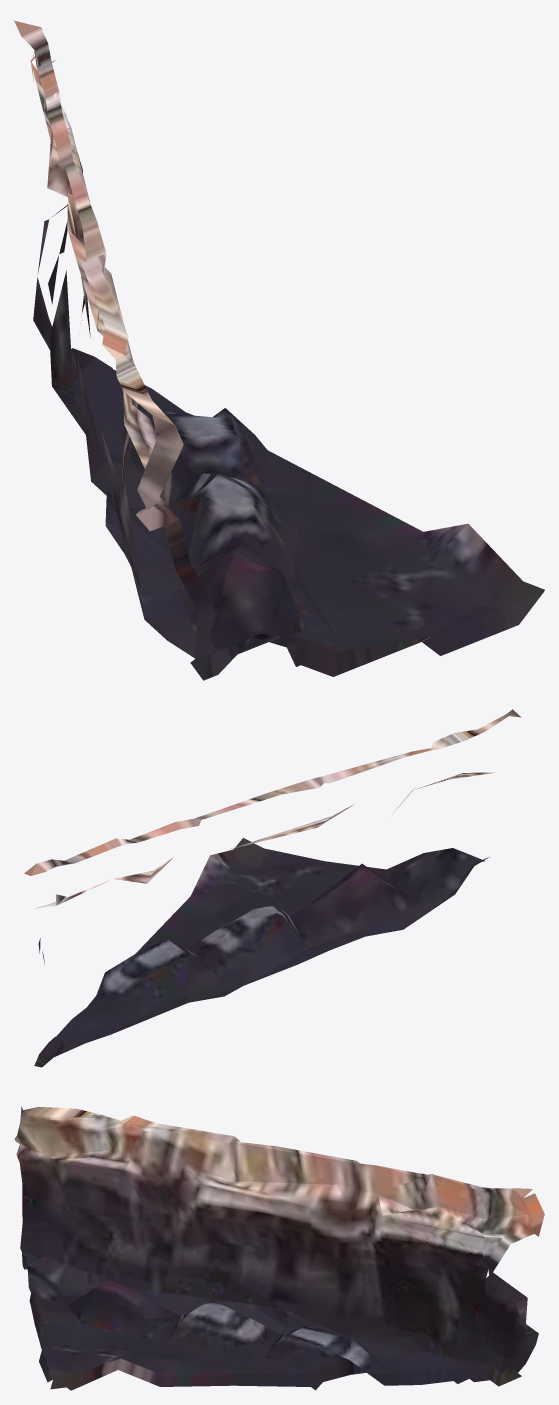
3 views of the same model, one above another, from view 1: azimuth 30°, elevation 25°; view 2: azimuth 150°, elevation 25°; view 3: azimuth 270°, elevation 25° (orthographic). The views are drawn at different scales.
Visible parts, largest first — view 1: Mesh_0; view 2: Mesh_0; view 3: Mesh_0.
Part boxes in pixels (left/top/right/bottom): Mesh_0: left=14, top=20, right=544, bottom=680; Mesh_0: left=24, top=709, right=520, bottom=1067; Mesh_0: left=14, top=1106, right=544, bottom=1390.
Bounding box in the file's own units: 12.41 × 9.28 × 23.05.
1 material, 1 textured.
